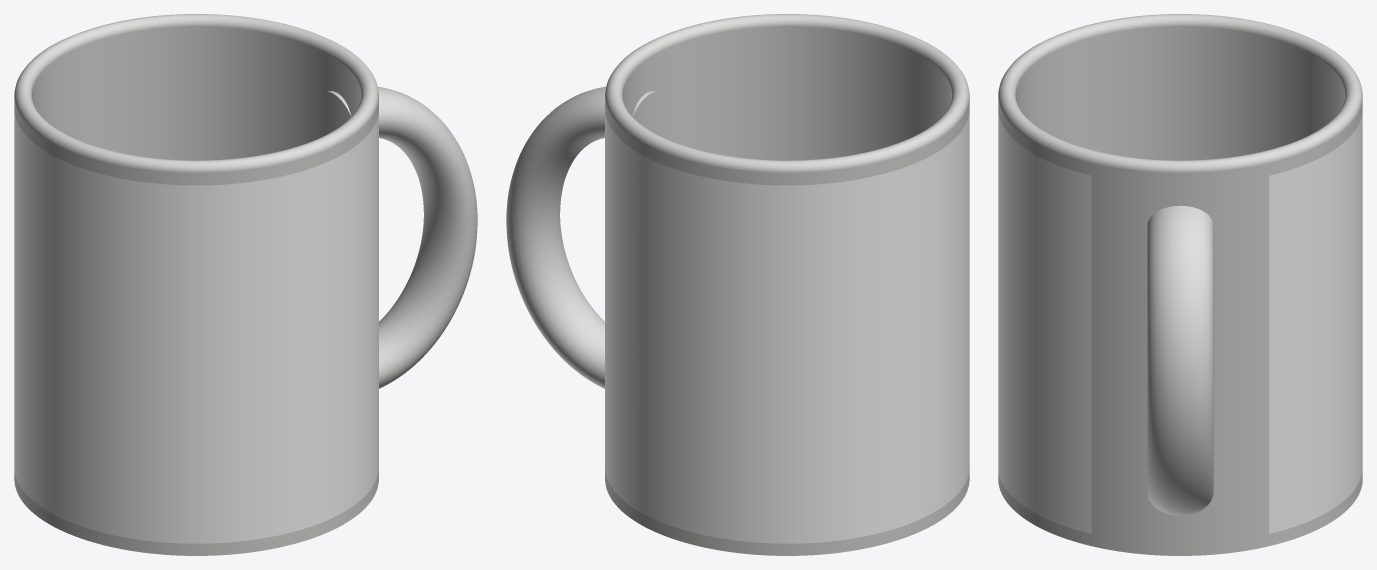
3 renders of one model, left to right at view 1: azimuth 30°, elevation 25°; view 2: azimuth 150°, elevation 25°; view 3: azimuth 270°, elevation 25°, orthographic.
Visible parts, largest first — view 1: mug; view 2: mug; view 3: mug.
Boxes of the visible parts, <box> form: mug: <box>14,14,477,555</box>; mug: <box>506,14,969,555</box>; mug: <box>998,14,1362,555</box>.
Size of the model in its own units: 0.1125 by 0.097 by 0.082.
2 materials, 1 textured.
